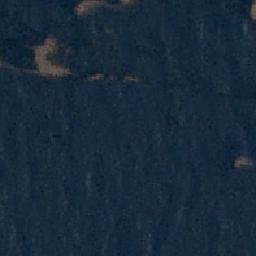debris: (34, 39, 55, 67), (35, 66, 75, 76), (75, 1, 98, 17), (233, 155, 253, 169), (248, 3, 256, 21), (119, 1, 137, 8), (121, 75, 141, 81), (91, 73, 106, 80)
